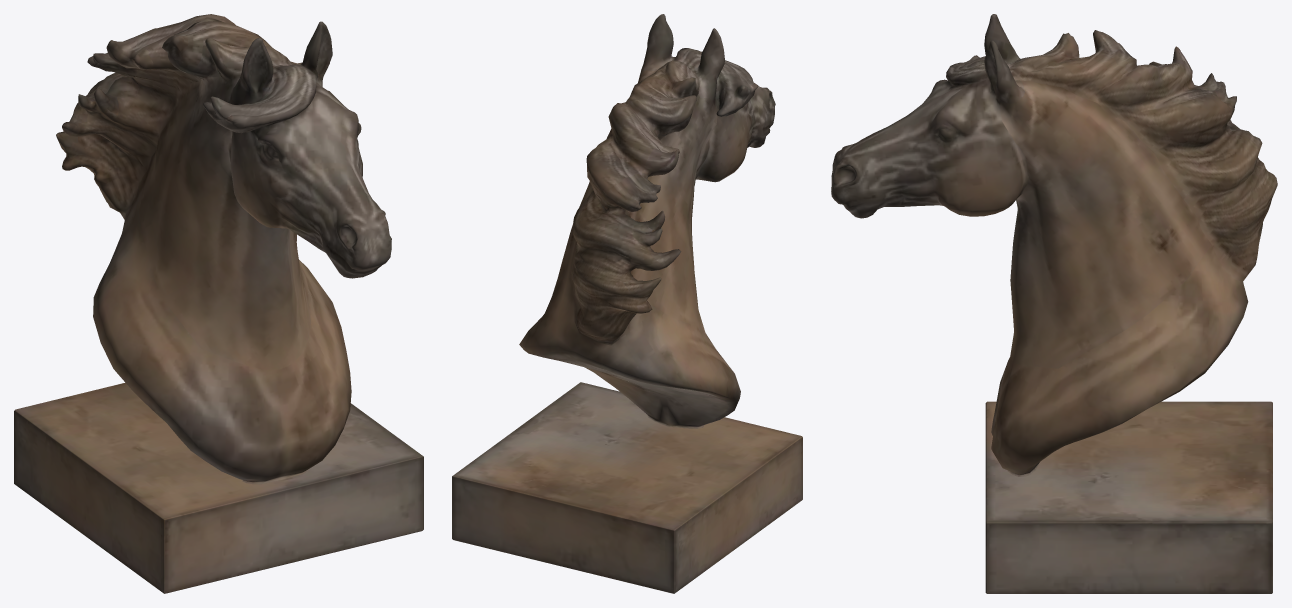
Rendered from horse_head.glb.
3 views of the same model, side by side, from view 1: azimuth 30°, elevation 25°; view 2: azimuth 150°, elevation 25°; view 3: azimuth 270°, elevation 25° (orthographic). The views are drawn at different scales.
Visible parts, largest first — view 1: horse_head; view 2: horse_head; view 3: horse_head.
Boxes of the visible parts, x1,y1,x2,y2 form: horse_head: (14,14,423,593); horse_head: (452,14,802,593); horse_head: (831,14,1277,593).
Size of the model in its own units: 0.215 by 0.4186 by 0.3341.
1 material, 1 textured.
